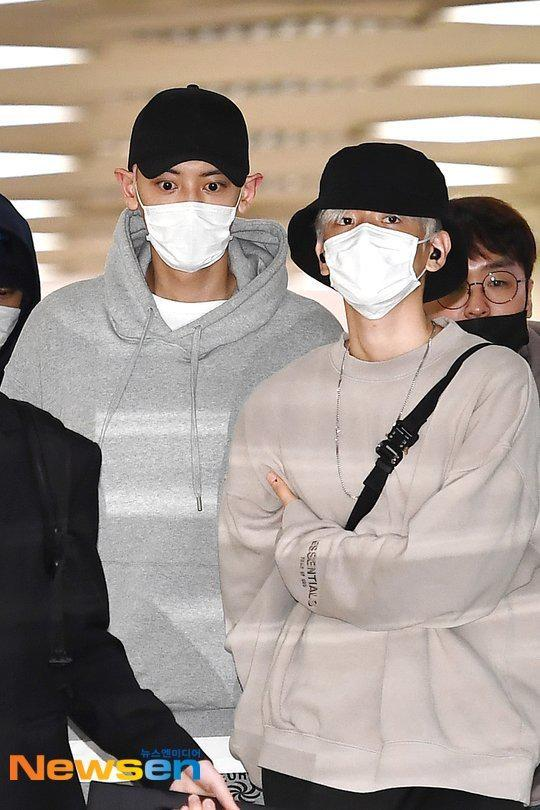OK: (140, 158, 237, 273), (327, 202, 421, 310)
WRONG: (429, 249, 525, 358)
